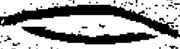Mouth: (7, 4, 175, 45)
